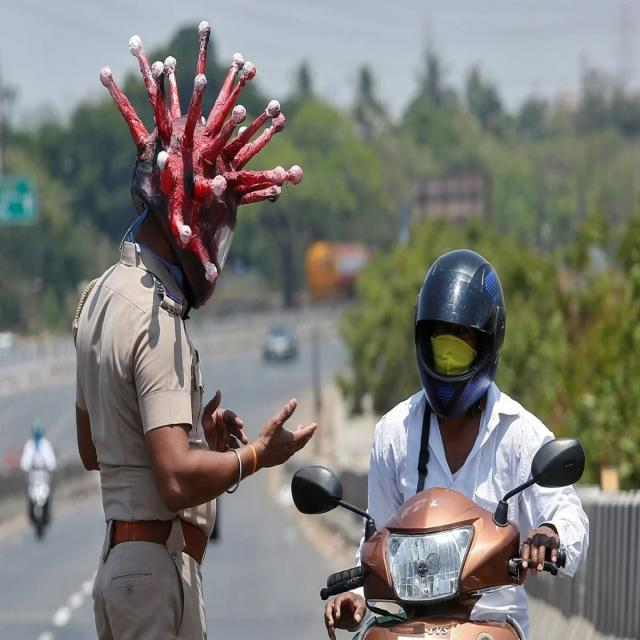helmet: (411, 238, 508, 428)
illegal_helmet: (94, 14, 310, 312)
